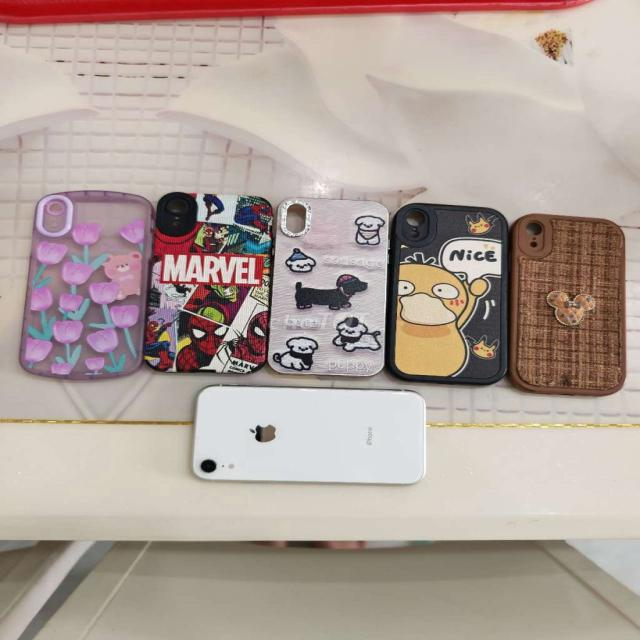gen_x_xs: (192, 385, 438, 494)
